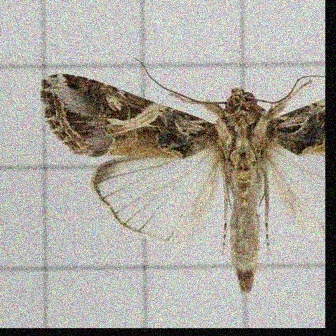Spodoptera litura: (40, 57, 325, 293)
